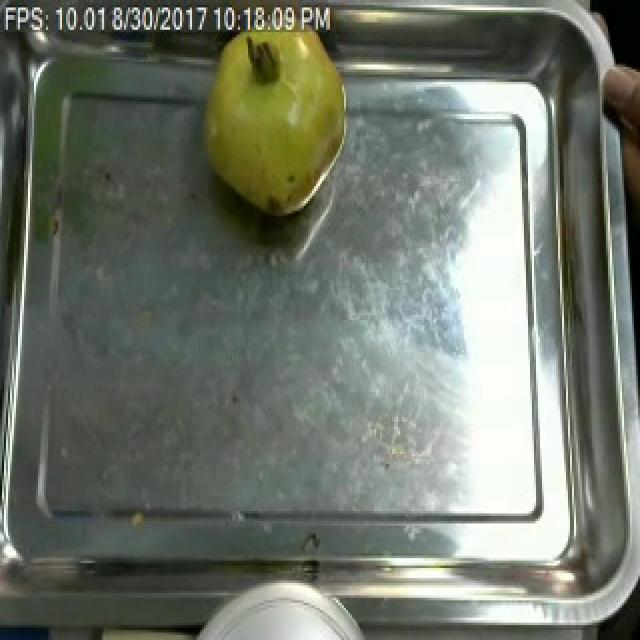fruit: (192, 15, 354, 226), (610, 52, 640, 169)
